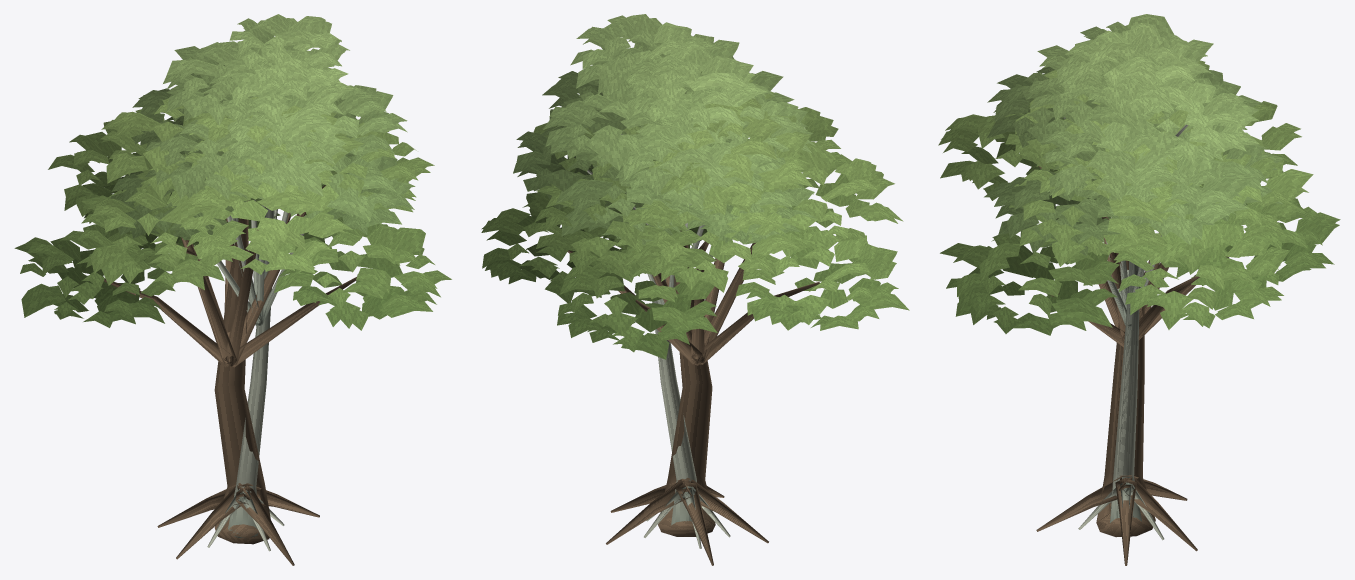
File: sundew-tree-kit.glb
3 views of the same model, side by side, from view 1: azimuth 30°, elevation 25°; view 2: azimuth 150°, elevation 25°; view 3: azimuth 270°, elevation 25° (orthographic). The views are drawn at different scales.
Parts seen in each view (by area): view 1: Oak_Crown_Near, Birch_Crown_Near, Oak_Crown_Far, Oak_Trunk, Birch_Crown_Far, Birch_Trunk; view 2: Oak_Crown_Near, Birch_Crown_Near, Oak_Crown_Far, Birch_Crown_Far, Oak_Trunk, Birch_Trunk; view 3: Oak_Crown_Near, Birch_Crown_Near, Oak_Crown_Far, Birch_Crown_Far, Oak_Trunk, Birch_Trunk.
Part boxes in pixels (box(x1,y1,x2,y2)): Oak_Crown_Near: box(20, 97, 442, 330); Birch_Crown_Near: box(110, 14, 414, 238); Oak_Crown_Far: box(14, 112, 451, 323); Oak_Trunk: box(104, 185, 356, 565); Birch_Crown_Far: box(111, 21, 415, 240); Birch_Trunk: box(207, 152, 304, 551); Oak_Crown_Near: box(481, 79, 898, 352); Birch_Crown_Near: box(513, 14, 814, 246); Oak_Crown_Far: box(481, 71, 909, 359); Birch_Crown_Far: box(516, 18, 817, 244); Oak_Trunk: box(567, 230, 819, 565); Birch_Trunk: box(587, 134, 730, 548); Oak_Crown_Near: box(938, 60, 1339, 333); Birch_Crown_Near: box(987, 21, 1277, 255); Oak_Crown_Far: box(940, 88, 1340, 335); Birch_Crown_Far: box(984, 14, 1283, 247); Oak_Trunk: box(1036, 166, 1229, 565); Birch_Trunk: box(1064, 117, 1188, 540).
Bounding box in the file's own units: 5.66 × 6.95 × 4.95.
Materials: 2 (2 with a texture image).
